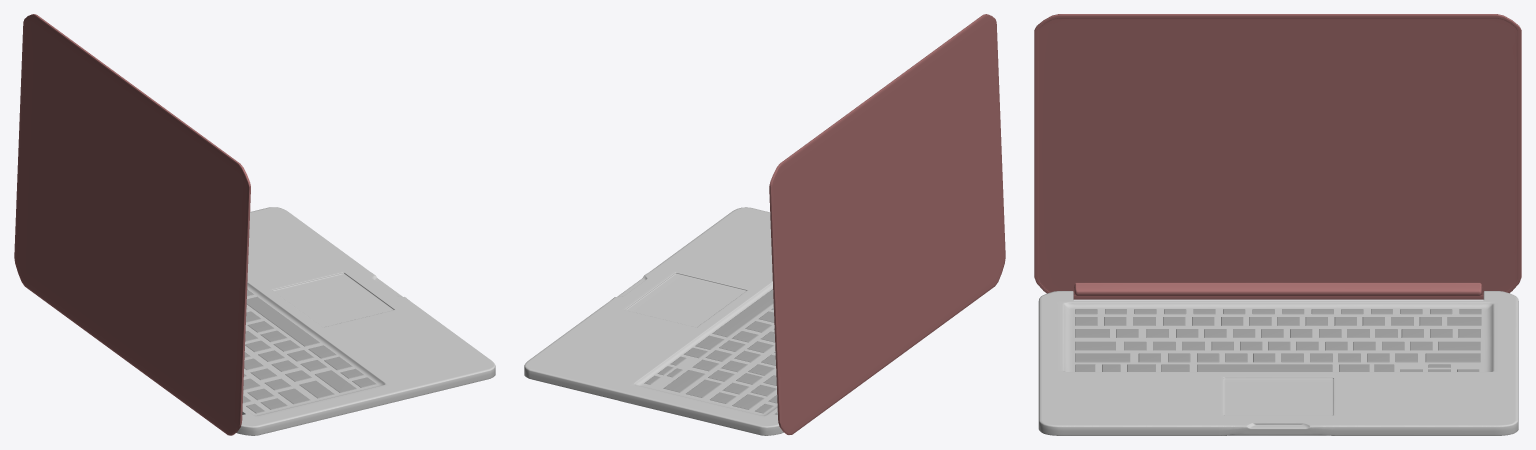
The model's file is mac.fbx.
3 renders of one model, left to right at view 1: azimuth 30°, elevation 25°; view 2: azimuth 150°, elevation 25°; view 3: azimuth 270°, elevation 25°, orthographic. The views are drawn at different scales.
Parts seen in each view (by area): view 1: polySurface242, polySurface163, polySurface241; view 2: polySurface242, polySurface163, polySurface241; view 3: polySurface242, polySurface163, polySurface241.
Part boxes in pixels (x1=…): polySurface242: x1=14, y1=14, x2=250, y2=435; polySurface163: x1=236, y1=207, x2=495, y2=435; polySurface241: x1=243, y1=289, x2=376, y2=413; polySurface242: x1=769, y1=14, x2=1005, y2=434; polySurface163: x1=524, y1=207, x2=783, y2=435; polySurface241: x1=644, y1=289, x2=777, y2=413; polySurface242: x1=1034, y1=14, x2=1521, y2=299; polySurface163: x1=1038, y1=291, x2=1518, y2=435; polySurface241: x1=1075, y1=309, x2=1481, y2=371.
Size of the model in its own units: 1.73 by 2.55 by 1.68.
